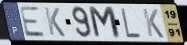9: (71, 5, 93, 40)
E: (18, 6, 47, 39)
K: (141, 8, 165, 40), (43, 7, 67, 38)
L: (119, 7, 142, 39)
M: (86, 6, 123, 41)
